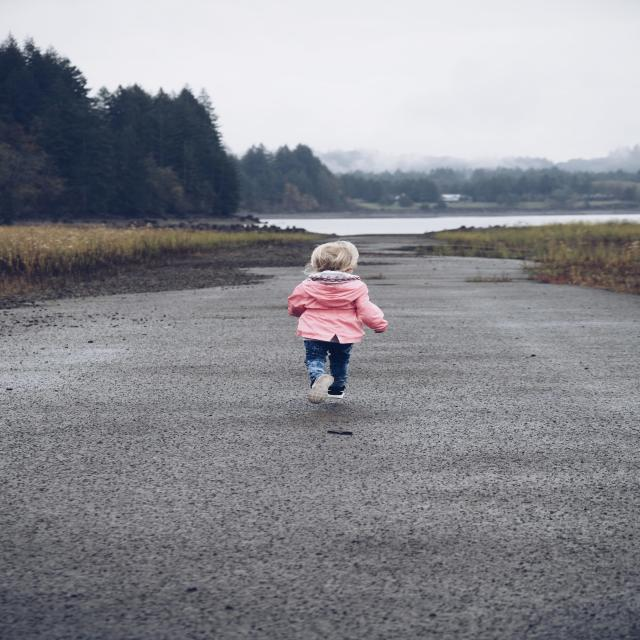child: (284, 238, 386, 402)
